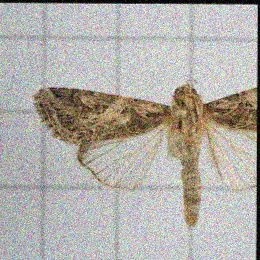Spodoptera litura: (29, 77, 257, 227)
